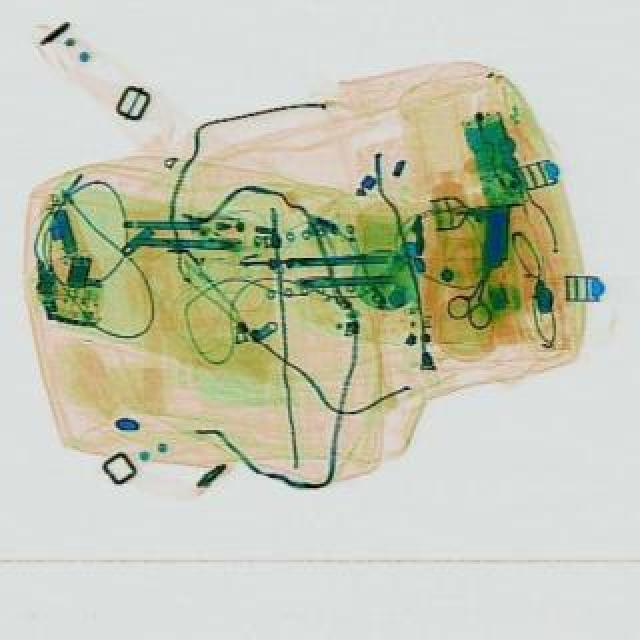pliers: (440, 262, 508, 334)
